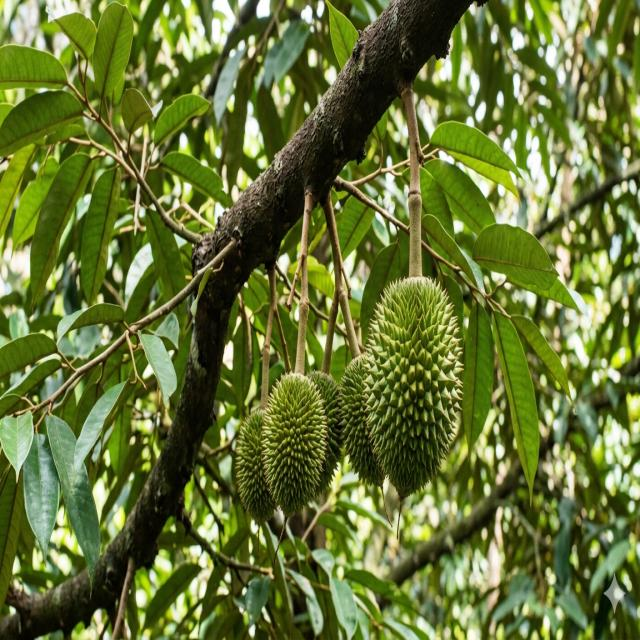immature: (357, 272, 463, 506), (260, 371, 330, 515), (335, 353, 380, 490), (234, 410, 278, 523), (307, 366, 341, 410)
